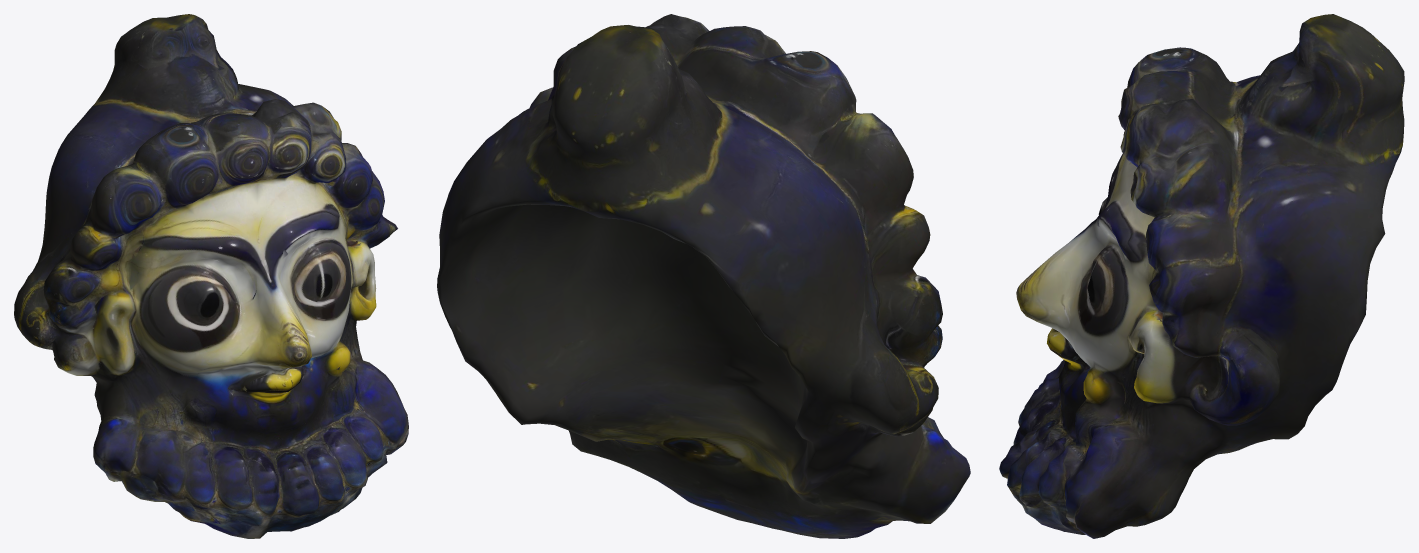
File: glassmaskblue.glb
3 views of the same model, side by side, from view 1: azimuth 30°, elevation 25°; view 2: azimuth 150°, elevation 25°; view 3: azimuth 270°, elevation 25° (orthographic). The views are drawn at different scales.
Parts seen in each view (by area): view 1: Mesh_0; view 2: Mesh_0; view 3: Mesh_0.
Boxes of the visible parts, x1,y1,x2,y2 form: Mesh_0: (14,14,408,538); Mesh_0: (437,14,970,538); Mesh_0: (999,14,1404,538).
Bounding box in the file's own units: 1.67 × 2 × 1.48.
1 material, 1 textured.
